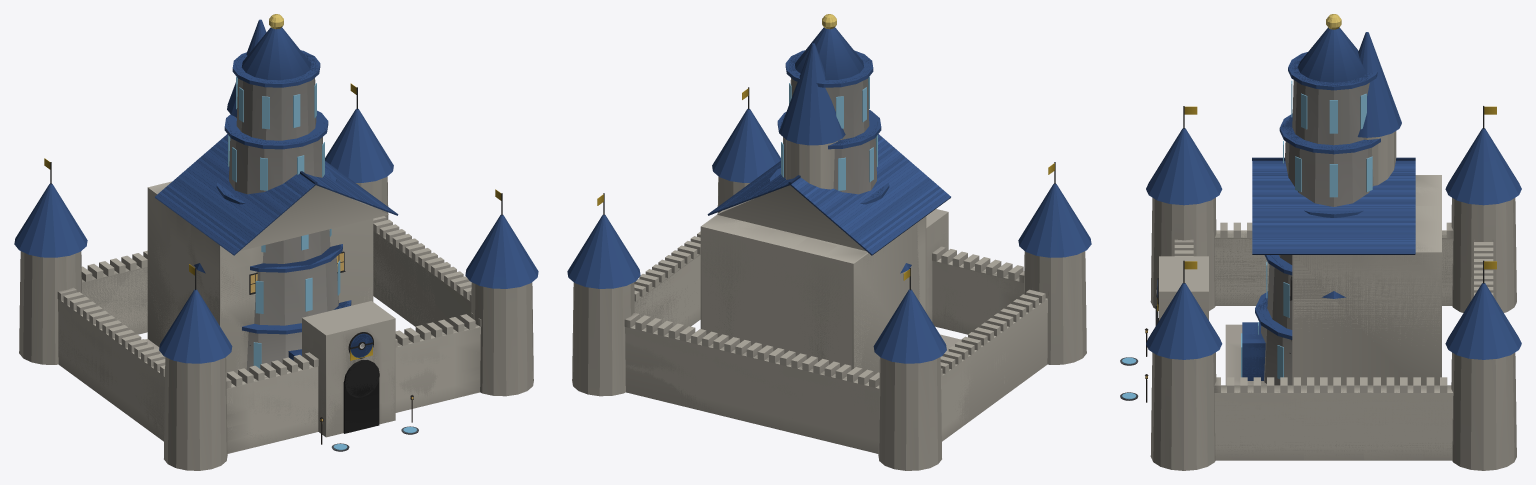
The model's file is landmarks.glb.
3 views of the same model, side by side, from view 1: azimuth 30°, elevation 25°; view 2: azimuth 150°, elevation 25°; view 3: azimuth 270°, elevation 25° (orthographic). The views are drawn at different scales.
Parts seen in each view (by area): view 1: league_castle, league_castle__lod, battle_tower, battle_tower__glow, battle_tower__lod; view 2: league_castle, league_castle__lod, battle_tower, battle_tower__glow, battle_tower__lod; view 3: league_castle, league_castle__lod, battle_tower, battle_tower__glow, battle_tower__lod.
Boxes of the visible parts, bbox=[...] form: league_castle: bbox=[14, 19, 538, 470]; league_castle__lod: bbox=[50, 87, 502, 453]; battle_tower: bbox=[147, 27, 351, 371]; battle_tower__glow: bbox=[228, 14, 340, 368]; battle_tower__lod: bbox=[145, 52, 349, 355]; league_castle: bbox=[567, 43, 1091, 470]; league_castle__lod: bbox=[603, 87, 1055, 453]; battle_tower: bbox=[769, 27, 945, 338]; battle_tower__glow: bbox=[781, 14, 877, 190]; battle_tower__lod: bbox=[775, 52, 961, 351]; league_castle: bbox=[1120, 32, 1521, 470]; league_castle__lod: bbox=[1120, 32, 1493, 460]; battle_tower: bbox=[1227, 27, 1380, 385]; battle_tower__glow: bbox=[1241, 14, 1372, 379]; battle_tower__lod: bbox=[1225, 53, 1375, 385].
Size of the model in its own units: 53.2 by 48.45 by 48.3.
